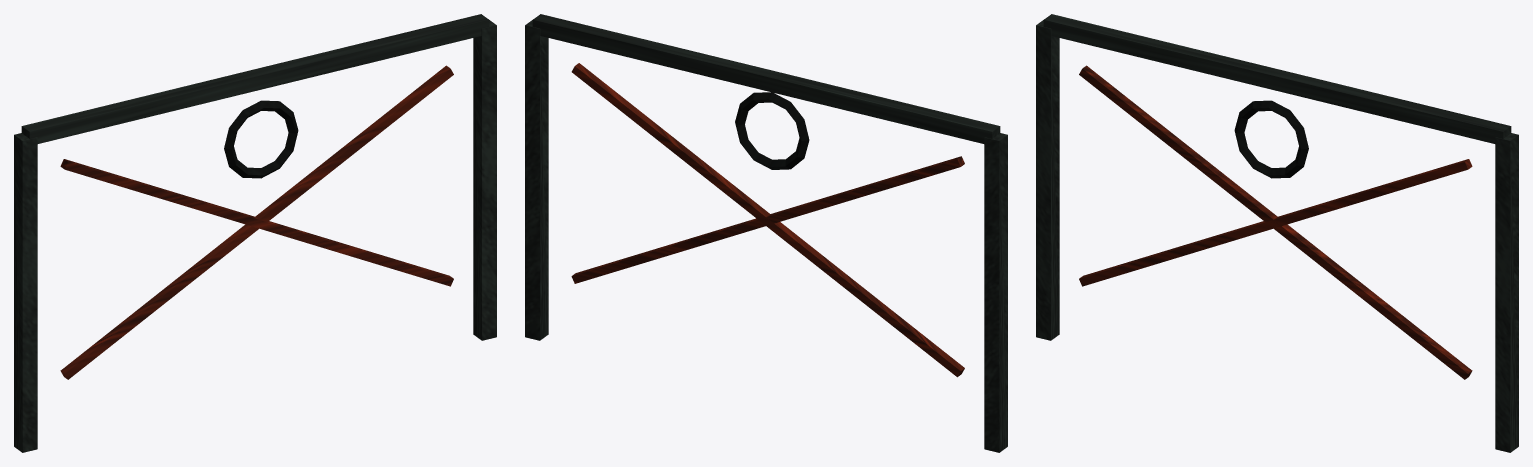
Rendered from iron-shadow-warning-frame.glb.
3 views of the same model, side by side, from view 1: azimuth 30°, elevation 25°; view 2: azimuth 150°, elevation 25°; view 3: azimuth 330°, elevation 25° (orthographic).
Visible parts, largest first — view 1: iron-shadow-warning-frame; view 2: iron-shadow-warning-frame; view 3: iron-shadow-warning-frame.
Boxes of the visible parts, x1,y1,x2,y2 form: iron-shadow-warning-frame: [14, 14, 496, 452]; iron-shadow-warning-frame: [525, 14, 1007, 452]; iron-shadow-warning-frame: [1036, 14, 1518, 452].
Size of the model in its own units: 7.64 by 4.91 by 0.36.
1 material, 1 textured.
